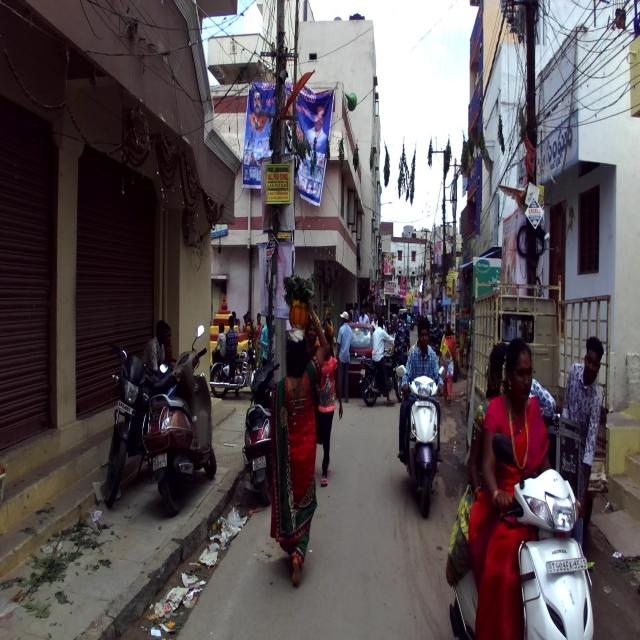motorcycle_Hero: (102, 342, 176, 508), (357, 339, 404, 406)
motorcycle_RoyalEnfield: (210, 327, 258, 398)
scooter: (448, 431, 594, 639), (141, 322, 217, 516), (395, 362, 444, 518), (242, 360, 280, 508)
truck: (462, 274, 612, 528)
